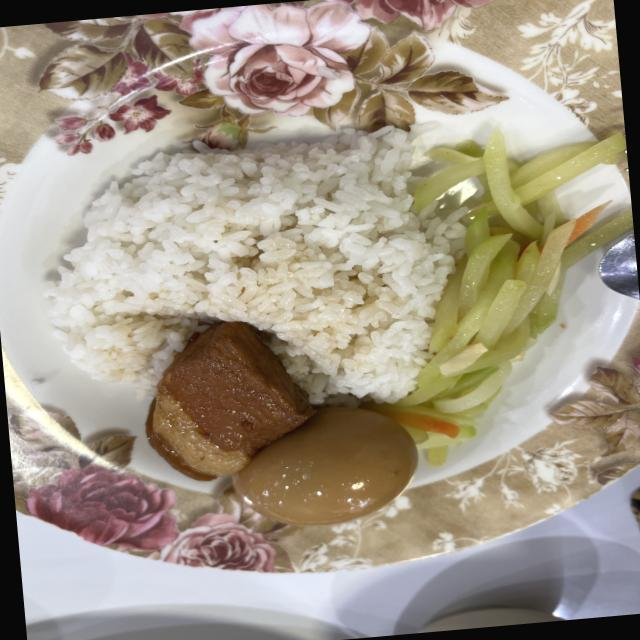com: (45, 126, 465, 404)
kho trung: (151, 321, 417, 525)
rau: (376, 129, 630, 466)
